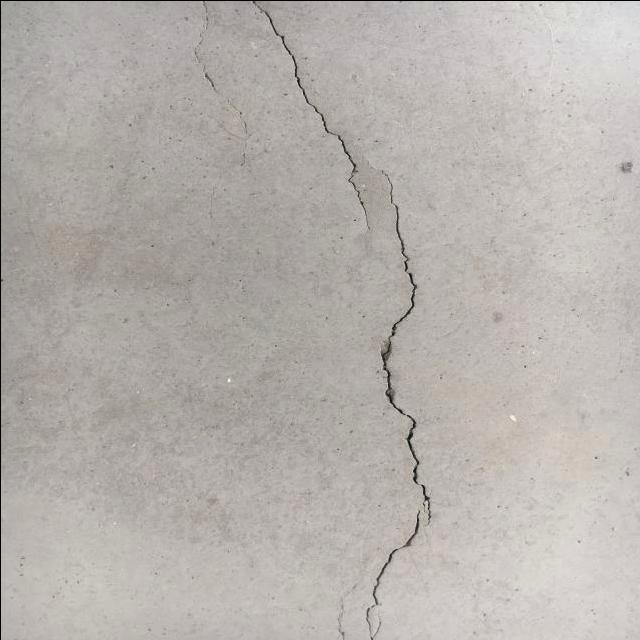SurfaceCrack: (234, 1, 462, 640)
